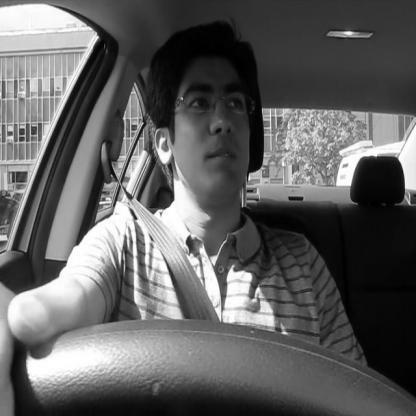seatbelt: (98, 23, 276, 416)
